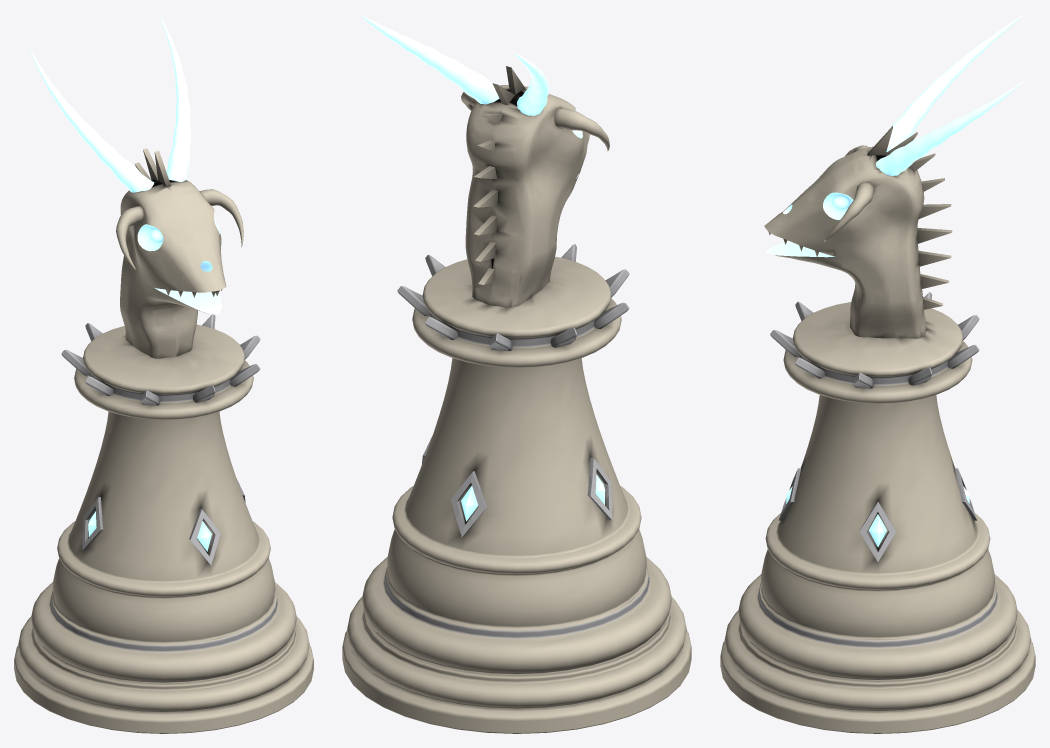
File: nightmare.glb
3 views of the same model, side by side, from view 1: azimuth 30°, elevation 25°; view 2: azimuth 150°, elevation 25°; view 3: azimuth 270°, elevation 25° (orthographic). The views are drawn at different scales.
Parts seen in each view (by area): view 1: nightmare; view 2: nightmare; view 3: nightmare.
Part boxes in pixels (x1,y1,x2,y2): nightmare: [14, 15, 313, 733]; nightmare: [342, 14, 691, 733]; nightmare: [720, 14, 1035, 733].
Bounding box in the file's own units: 0.74 × 1.61 × 0.74.
